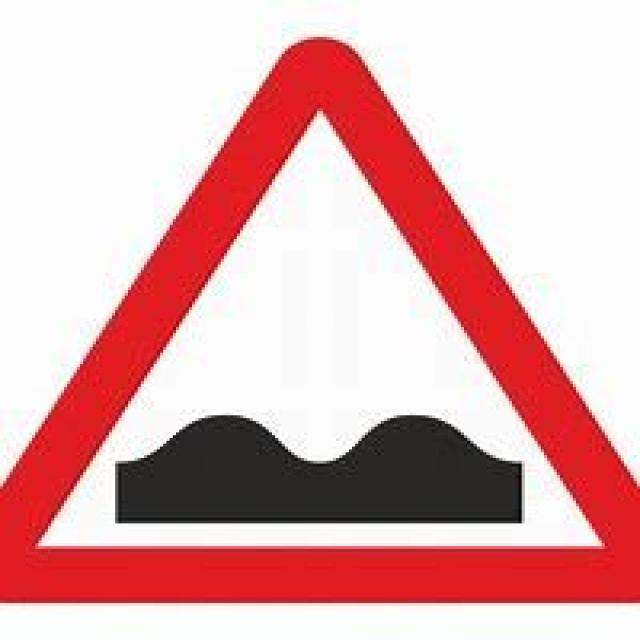hump or rough road: (29, 35, 613, 599)
